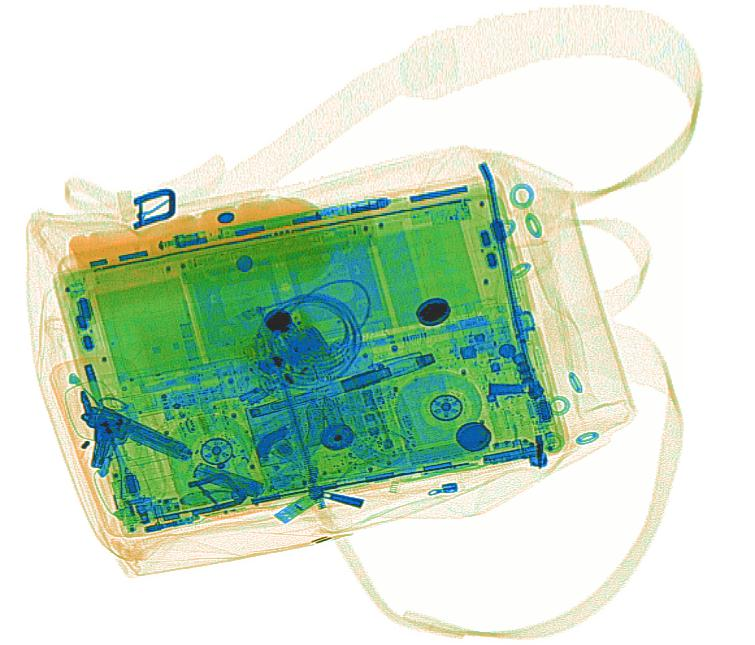battery: (191, 465, 265, 500)
